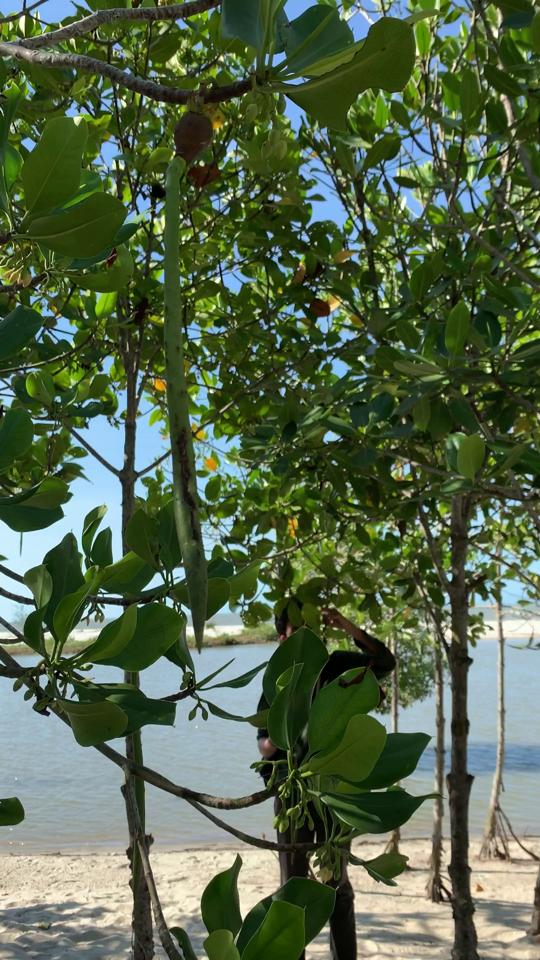setengah matang: (149, 100, 235, 653)
